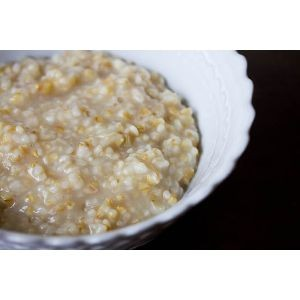oat_brain food: (12, 90, 162, 194)
